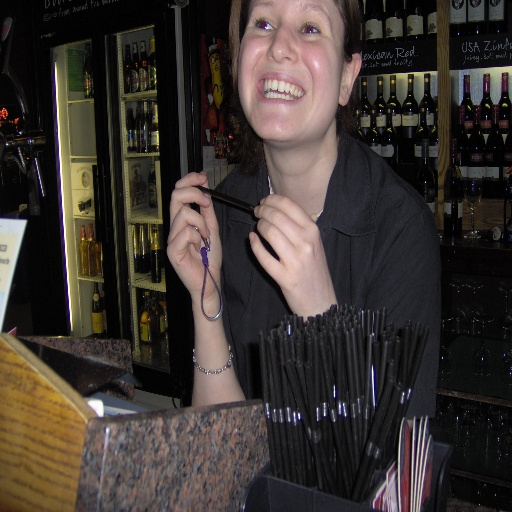hand: (165, 154, 229, 353), (247, 190, 339, 324)
